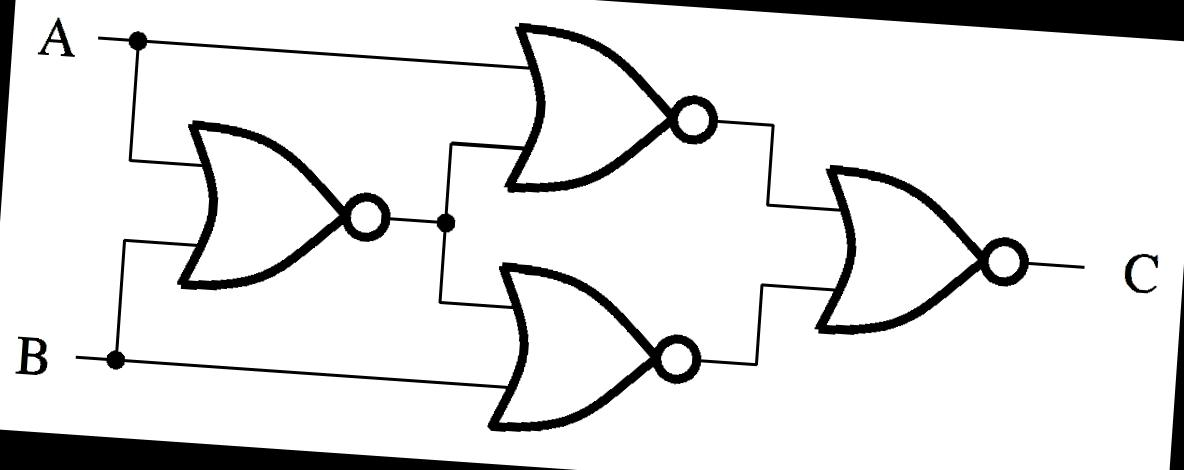nor: (490, 9, 735, 216), (474, 252, 726, 453), (802, 154, 1050, 358), (162, 109, 408, 310)
